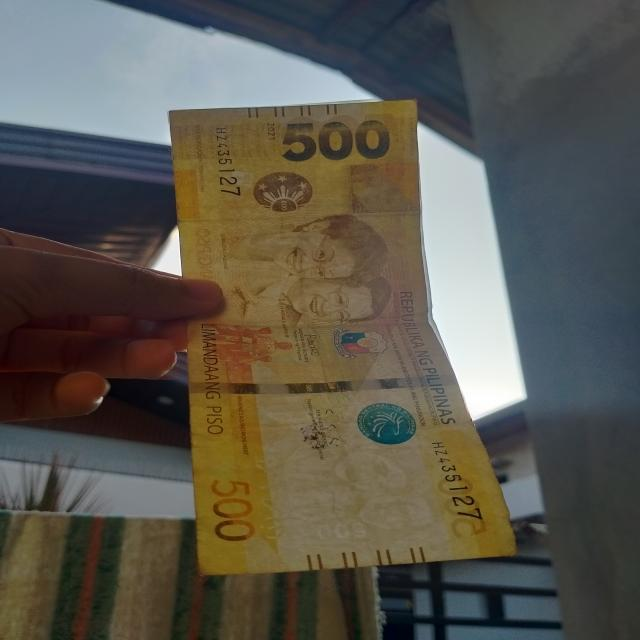concealed_value: (343, 160, 424, 217)
optically_variable_device: (238, 162, 324, 220)
security_thread: (188, 375, 459, 399)
see_through_mark: (251, 450, 288, 545)
value_watermark: (293, 513, 366, 547)
watermark: (266, 438, 444, 534)
